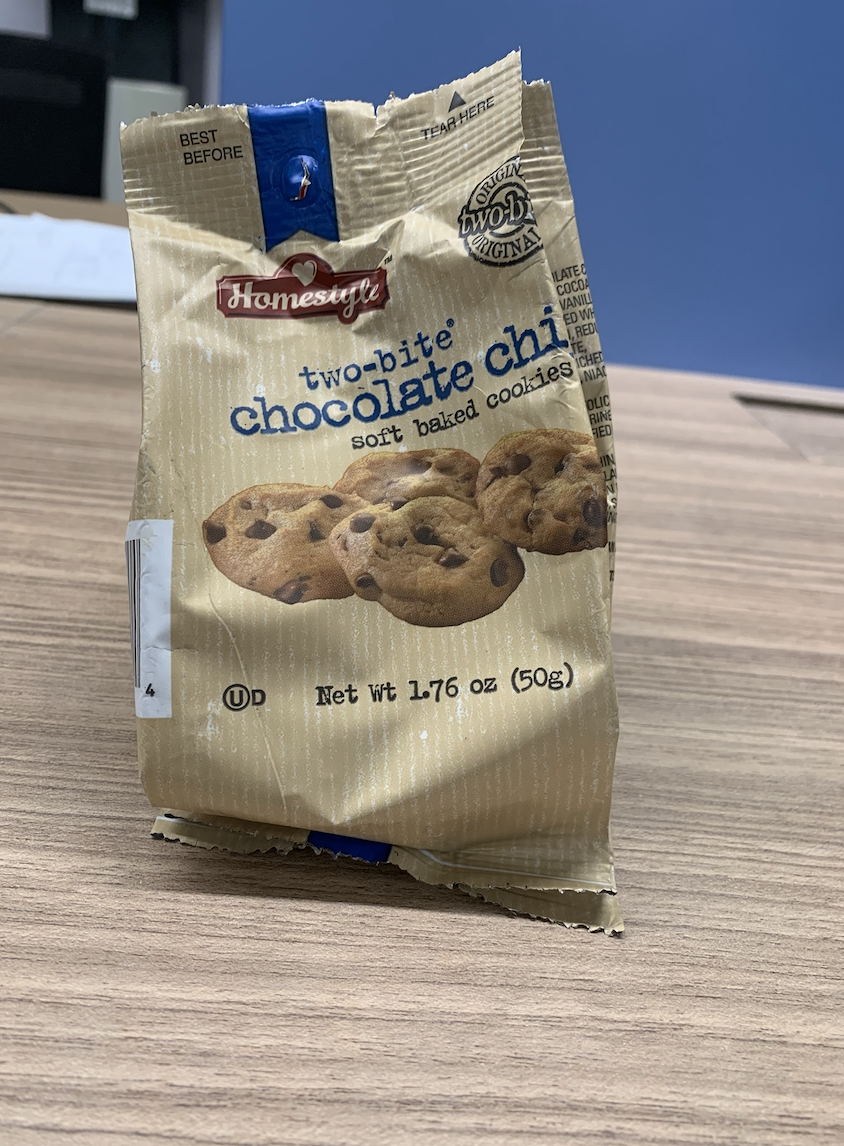cookies_50g: (129, 89, 604, 930)
